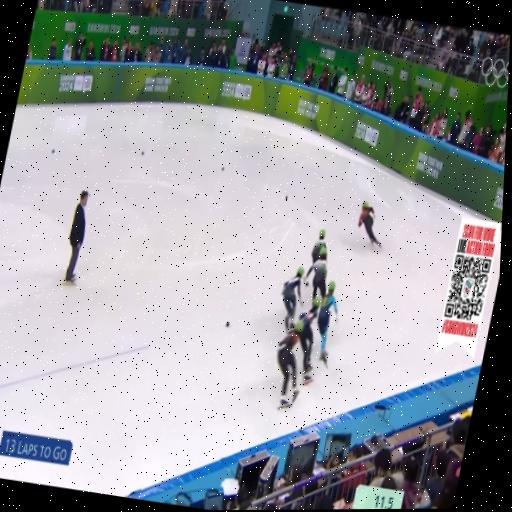Skater: (278, 321, 303, 409), (299, 297, 322, 384), (318, 281, 338, 363), (282, 267, 304, 331), (306, 248, 327, 298), (358, 202, 381, 247), (311, 230, 326, 264)
